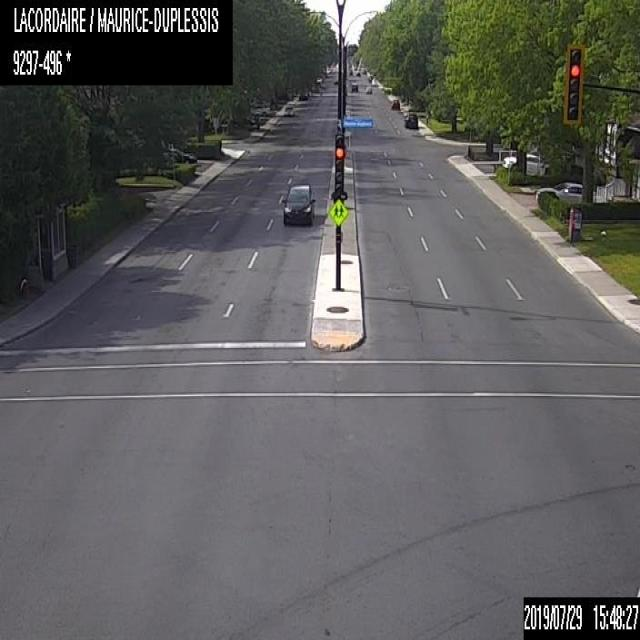vehicle: (538, 180, 594, 210), (281, 182, 314, 226), (502, 152, 543, 174), (166, 148, 195, 164), (252, 102, 268, 116), (404, 112, 418, 128), (283, 103, 294, 116), (390, 98, 400, 110), (297, 90, 308, 100), (368, 74, 377, 85), (349, 81, 357, 92), (364, 84, 372, 93), (360, 67, 366, 73), (315, 76, 321, 82), (355, 70, 360, 76), (334, 76, 337, 84)
